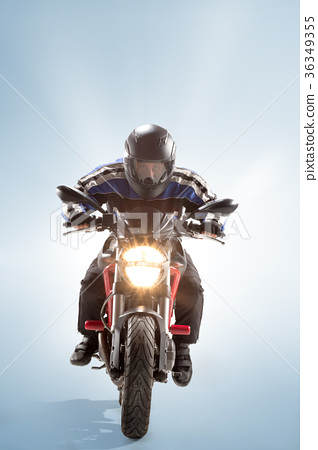helmet: (127, 127, 187, 188)
